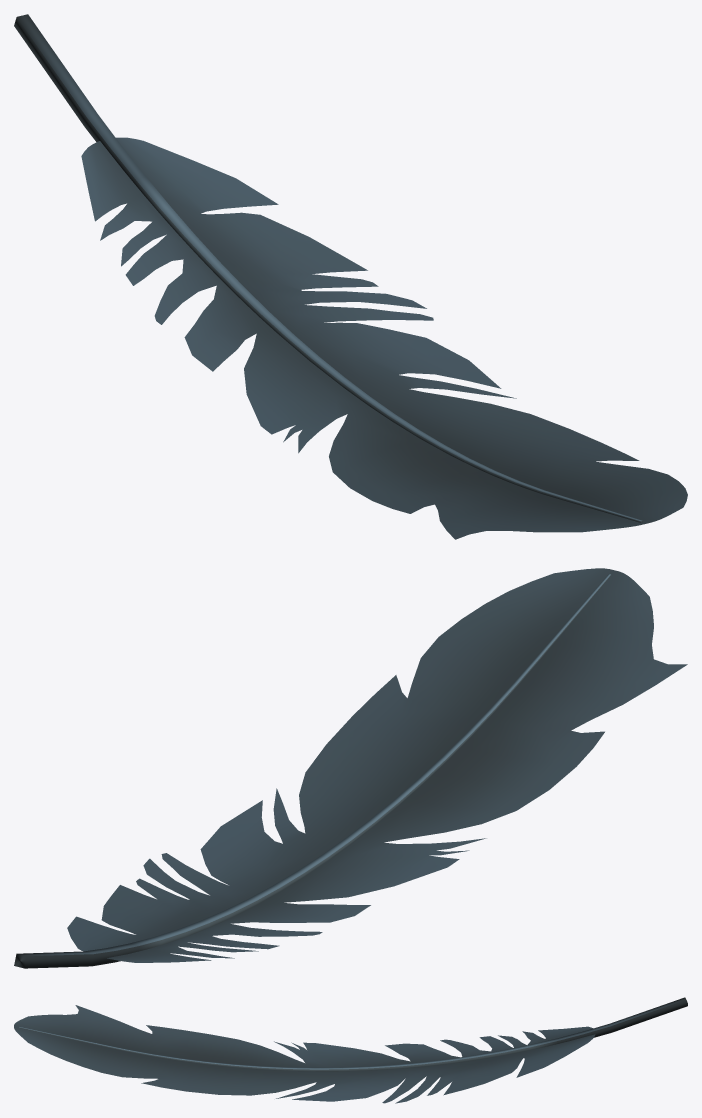
Rendered from animals-animalparts-blackfeather_v1.glb.
The picture shows the model from 3 angles, top to bottom: view 1: azimuth 30°, elevation 25°; view 2: azimuth 150°, elevation 25°; view 3: azimuth 270°, elevation 25°; orthographic projection. The views are drawn at different scales.
Visible parts, largest first — view 1: BlackFeather_v1; view 2: BlackFeather_v1; view 3: BlackFeather_v1.
Boxes of the visible parts, bbox=[...] form: BlackFeather_v1: bbox=[14, 14, 687, 539]; BlackFeather_v1: bbox=[14, 568, 687, 968]; BlackFeather_v1: bbox=[14, 997, 687, 1103].
Size of the model in its own units: 0.5048 by 0.2454 by 2.03.
